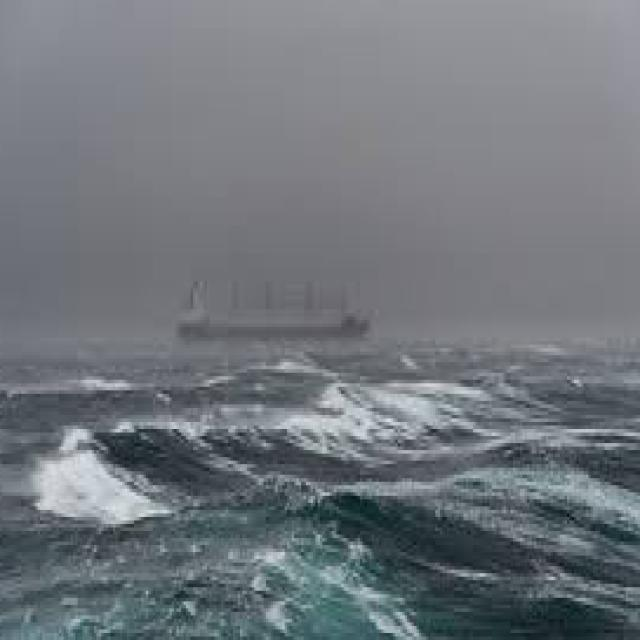cargoship: (173, 267, 378, 345)
